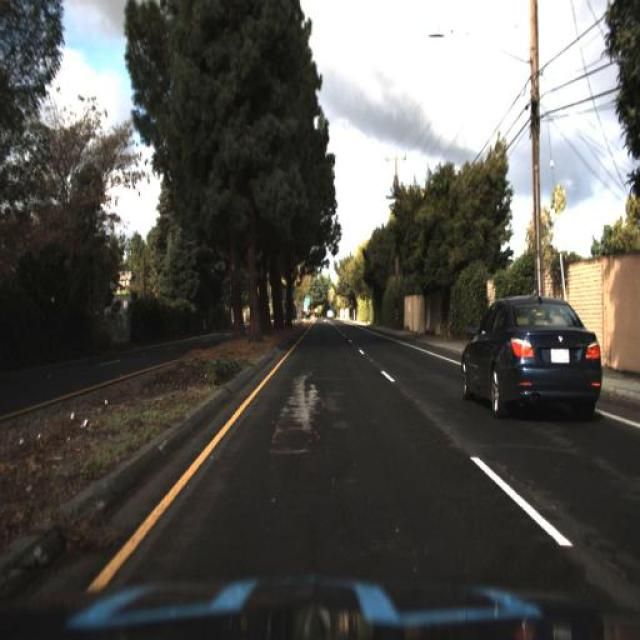car: (462, 287, 604, 434)
